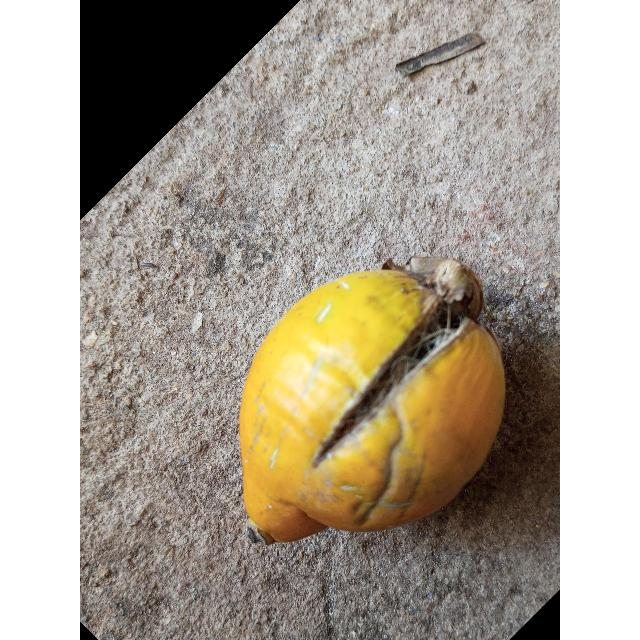damaged: (238, 256, 507, 548)
